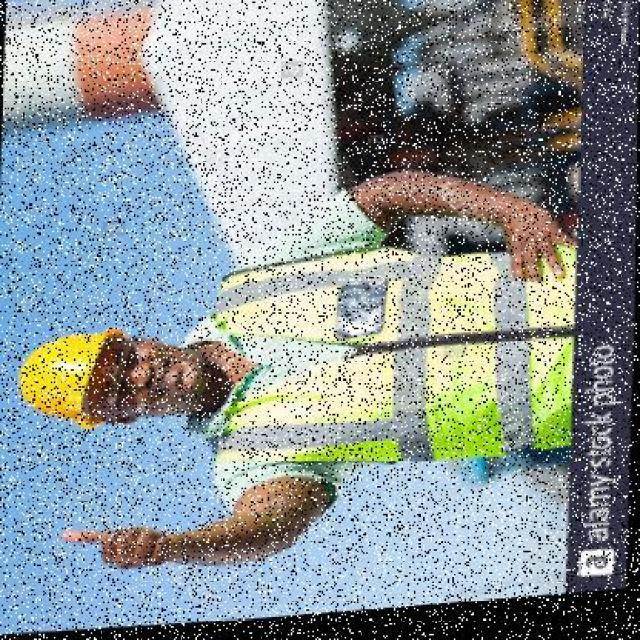helmet: (15, 311, 123, 445)
vest: (177, 211, 566, 485)
